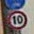limite 10: (6, 10, 27, 29)
